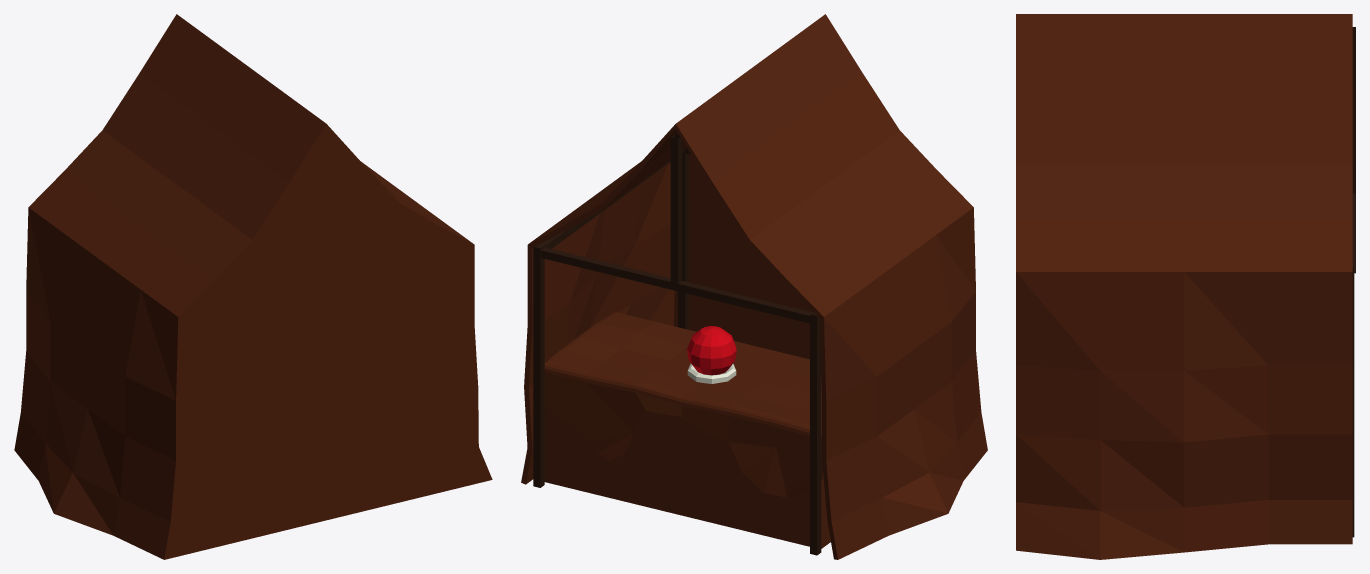
Rendered from TarotStand.fbx.
3 views of the same model, side by side, from view 1: azimuth 30°, elevation 25°; view 2: azimuth 150°, elevation 25°; view 3: azimuth 270°, elevation 25° (orthographic). The views are drawn at different scales.
Parts seen in each view (by area): view 1: Box040; view 2: Box040, Plane002, Box039, Box048, Box041, Box042, Sphere001, Box049, Box043, Box045; view 3: Box040, Box041, Box049.
Part boxes in pixels (x1=…): Box040: x1=14, y1=14, x2=492, y2=559; Box040: x1=521, y1=14, x2=987, y2=559; Plane002: x1=544, y1=312, x2=822, y2=497; Box039: x1=544, y1=407, x2=830, y2=548; Box048: x1=541, y1=247, x2=811, y2=323; Box041: x1=533, y1=244, x2=544, y2=487; Box042: x1=810, y1=312, x2=821, y2=555; Sphere001: x1=687, y1=326, x2=736, y2=375; Box049: x1=670, y1=134, x2=682, y2=287; Box043: x1=678, y1=152, x2=688, y2=329; Box045: x1=540, y1=150, x2=684, y2=248; Box040: x1=1016, y1=14, x2=1352, y2=559; Box041: x1=1352, y1=264, x2=1354, y2=537; Box049: x1=1352, y1=27, x2=1355, y2=193.
Bounding box in the file's own units: 1580 × 1581 × 1087.
